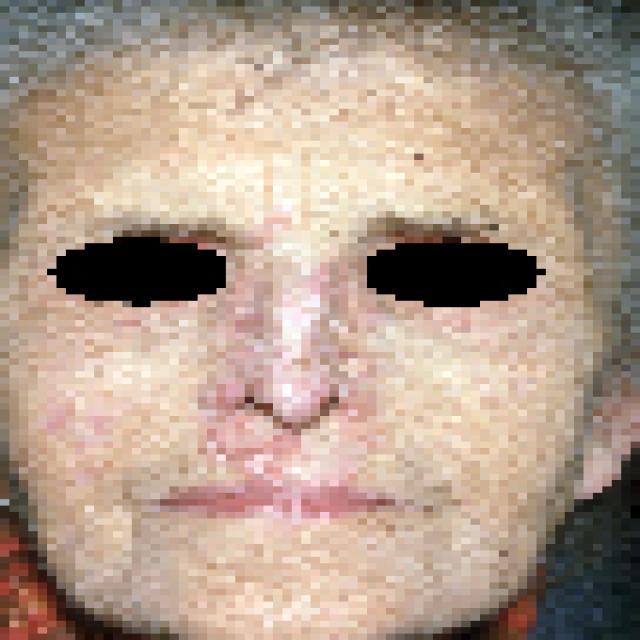lupus: (227, 281, 352, 482)
